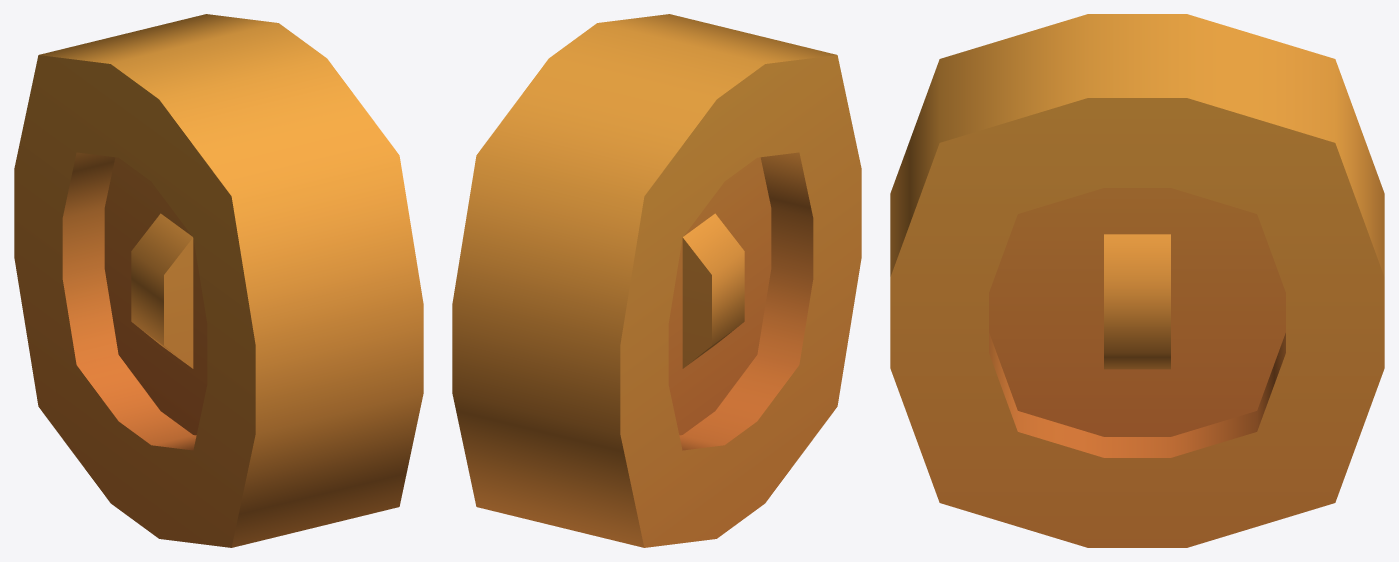
The model's file is coin.glb.
3 renders of one model, left to right at view 1: azimuth 30°, elevation 25°; view 2: azimuth 150°, elevation 25°; view 3: azimuth 270°, elevation 25°, orthographic. The views are drawn at different scales.
Visible parts, largest first — view 1: coin; view 2: coin; view 3: coin.
Part boxes in pixels (x1=…): coin: x1=14, y1=14, x2=423, y2=547; coin: x1=452, y1=14, x2=861, y2=547; coin: x1=890, y1=14, x2=1384, y2=547.
Size of the model in its own units: 0.1667 by 0.4167 by 0.415.
Materials: 1 (1 with a texture image).
